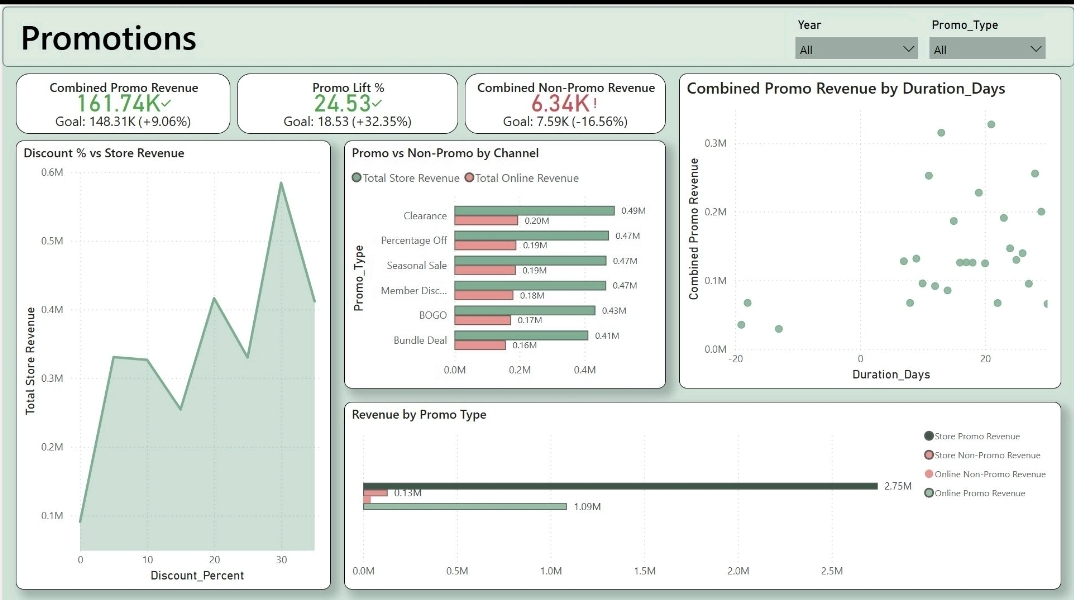

The page's visual inventory and layout, read from the dashboard file:
{"tool":"powerbi","page":{"name":"Promotions","canvas":[1280,720],"ordinal":4},"visuals":[{"type":"shape","box":[0,0,1280,72],"z":0},{"type":"textbox","title":"Promotions","box":[16,8,608,48],"z":1000},{"type":"kpi","title":"Combined Promo Revenue","fields":{"Indicator":["measure.Combined Promo Revenue"],"TrendLine":["gold dim_date.Month_Year"],"Goal":["measure.Target Combined Promo Revenue"]},"box":[16,80,256,72],"z":2000},{"type":"kpi","title":"Combined Non-Promo Revenue","fields":{"Indicator":["measure.Combined Non-Promo Revenue"],"TrendLine":["gold dim_date.Month_Year"],"Goal":["measure.Target Combined Non-Promo Revenue"]},"box":[552,80,240,72],"z":3000},{"type":"kpi","title":"Promo Lift %","fields":{"Indicator":["measure.Promo Lift %"],"TrendLine":["gold dim_date.Month_Year"],"Goal":["measure.Target Promo Lift %"]},"box":[280,80,264,72],"z":4000},{"type":"slicer","fields":{"Values":["gold dim_promotion.Promo_Type"]},"box":[1096,8,160,56],"z":5000},{"type":"clusteredBarChart","title":"Revenue by Promo Type","fields":{"Y":["measure.Store Promo Revenue","measure.Store Non-Promo Revenue","measure.Online Non-Promo Revenue","measure.Online Promo Revenue"]},"box":[408,472,856,224],"z":6000},{"type":"clusteredBarChart","title":"Promo vs Non-Promo by Channel","fields":{"Y":["measure.Total Store Revenue","measure.Total Online Revenue"],"Category":["gold dim_promotion.Promo_Type"]},"box":[408,160,384,296],"z":7000},{"type":"areaChart","title":"Discount % vs Store Revenue","fields":{"Category":["gold dim_promotion.Discount_Percent"],"Y":["measure.Total Store Revenue"]},"box":[16,160,376,536],"z":8000},{"type":"slicer","fields":{"Values":["gold dim_date.Year"]},"box":[936,8,168,56],"z":9000},{"type":"scatterChart","fields":{"X":["gold dim_promotion.Duration_Days"],"Y":["measure.Combined Promo Revenue"]},"box":[808,80,456,376],"z":10000}]}

Visuals, with their boxes in screenshot pixels (x1, y1, x2, y2), scaled from the page's 1280x720 canvas onto the 1074x600 screenshot:
shape: [x1=0, y1=0, x2=1073, y2=60]
"Promotions" textbox: [x1=13, y1=7, x2=524, y2=47]
"Combined Promo Revenue" kpi: [x1=13, y1=67, x2=228, y2=127]
"Combined Non-Promo Revenue" kpi: [x1=463, y1=67, x2=665, y2=127]
"Promo Lift %" kpi: [x1=235, y1=67, x2=456, y2=127]
slicer - gold dim_promotion.Promo_Type: [x1=920, y1=7, x2=1054, y2=53]
"Revenue by Promo Type" clusteredBarChart: [x1=342, y1=393, x2=1061, y2=580]
"Promo vs Non-Promo by Channel" clusteredBarChart: [x1=342, y1=133, x2=665, y2=380]
"Discount % vs Store Revenue" areaChart: [x1=13, y1=133, x2=329, y2=580]
slicer - gold dim_date.Year: [x1=785, y1=7, x2=926, y2=53]
scatterChart - gold dim_promotion.Duration_Days x measure.Combined Promo Revenue: [x1=678, y1=67, x2=1061, y2=380]
